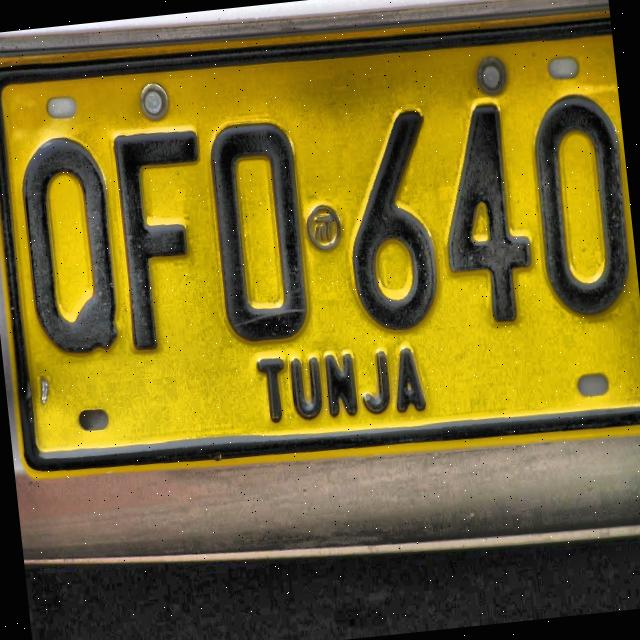0: (520, 88, 639, 338)
4: (430, 93, 546, 344)
6: (331, 98, 452, 342)
F: (104, 120, 222, 364)
O: (198, 110, 316, 350)
Q: (10, 124, 130, 368)
